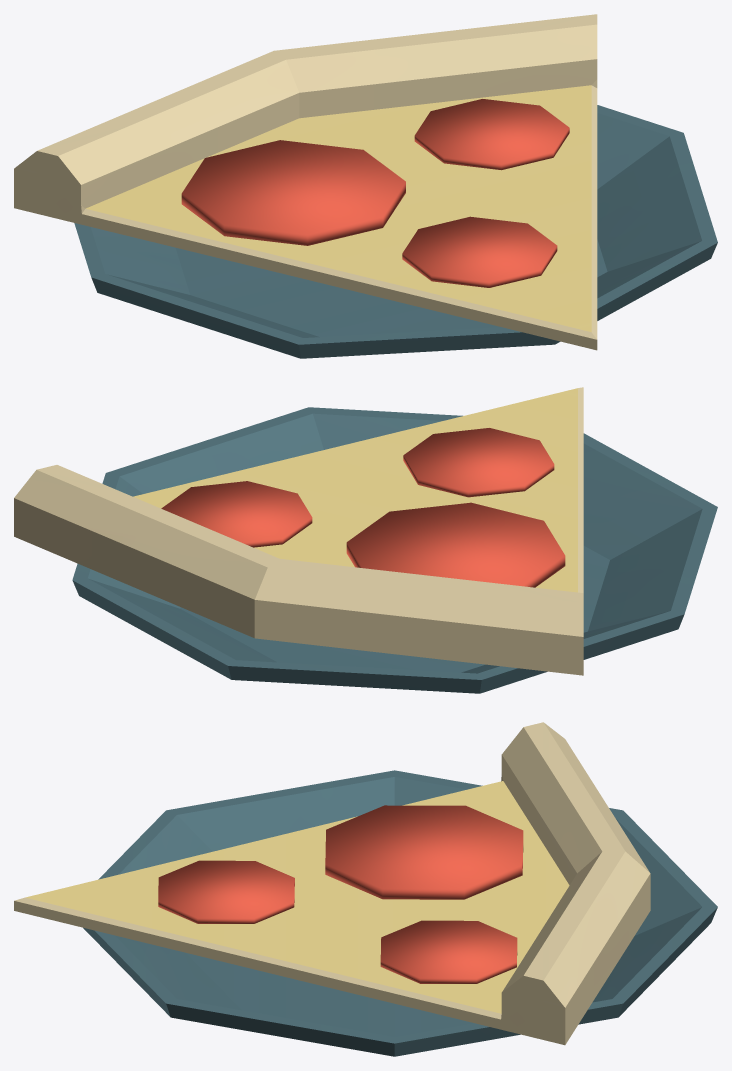
The model's file is pizza-pepperoni-slice-on-plate.glb.
The picture shows the model from 3 angles, top to bottom: view 1: azimuth 30°, elevation 25°; view 2: azimuth 150°, elevation 25°; view 3: azimuth 270°, elevation 25°; orthographic projection. The views are drawn at different scales.
Parts seen in each view (by area): view 1: PizzaPepperoniSliceOnPlate.001; view 2: PizzaPepperoniSliceOnPlate.001; view 3: PizzaPepperoniSliceOnPlate.001.
Boxes of the visible parts, x1,y1,x2,y2 form: PizzaPepperoniSliceOnPlate.001: (14,14,717,358); PizzaPepperoniSliceOnPlate.001: (14,387,717,693); PizzaPepperoniSliceOnPlate.001: (14,722,717,1056).
Size of the model in its own units: 0.3046 by 0.0576 by 0.3296.
1 material, 1 textured.
